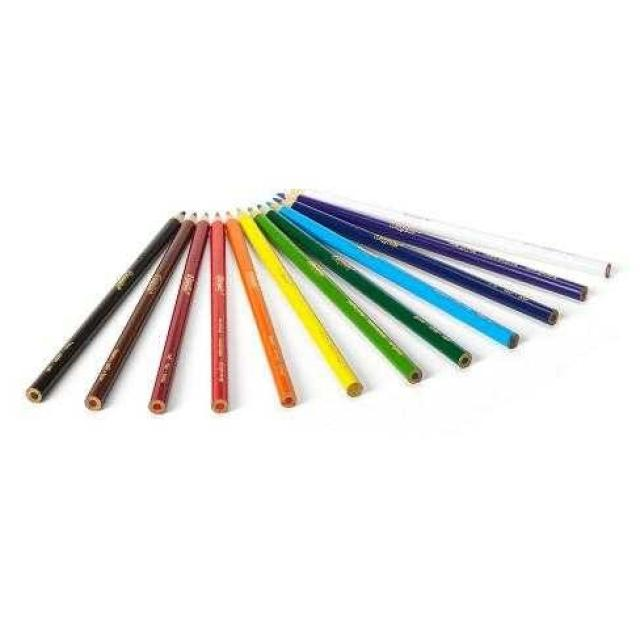pencil: (256, 194, 486, 380), (0, 198, 196, 416), (266, 193, 530, 354), (276, 192, 569, 333), (282, 186, 597, 310), (242, 199, 435, 393), (279, 181, 628, 280), (233, 199, 373, 416), (67, 200, 204, 419), (223, 201, 310, 417), (140, 201, 214, 421), (203, 203, 241, 439)
